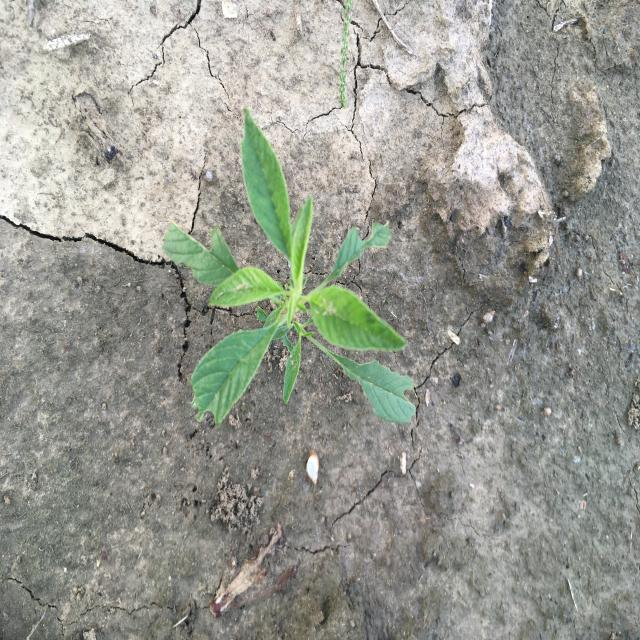Waterhemp: (161, 108, 420, 430)
